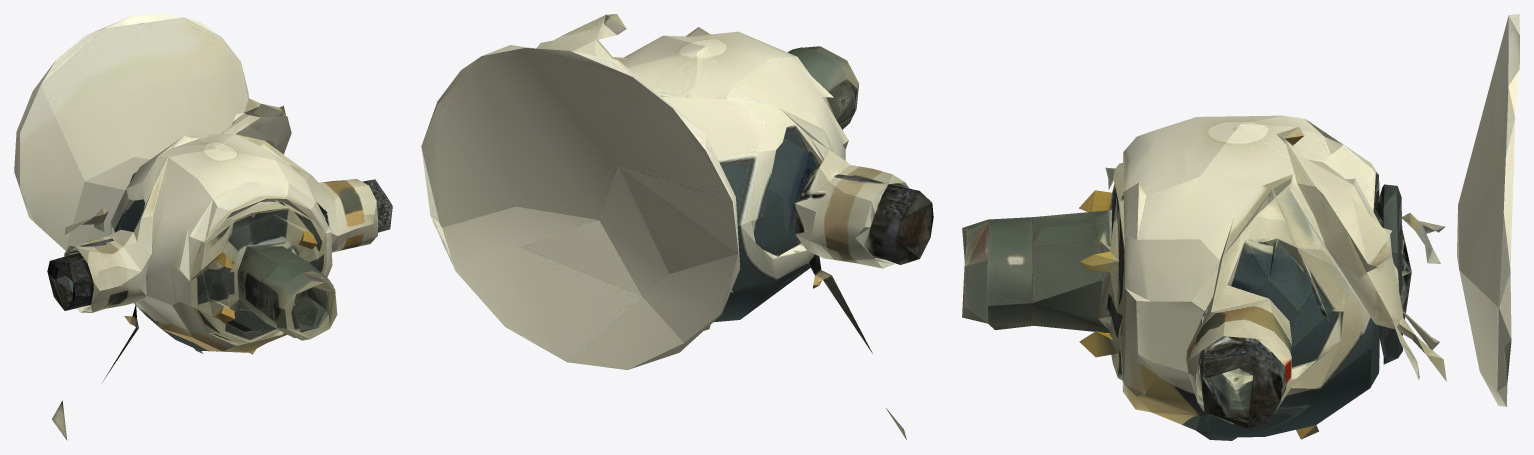
File: module-sensor.glb
3 renders of one model, left to right at view 1: azimuth 30°, elevation 25°; view 2: azimuth 150°, elevation 25°; view 3: azimuth 270°, elevation 25°, orthographic. The views are drawn at different scales.
Size of the model in its own units: 1.89 by 1.8 by 1.9.
1 material, 1 textured.
